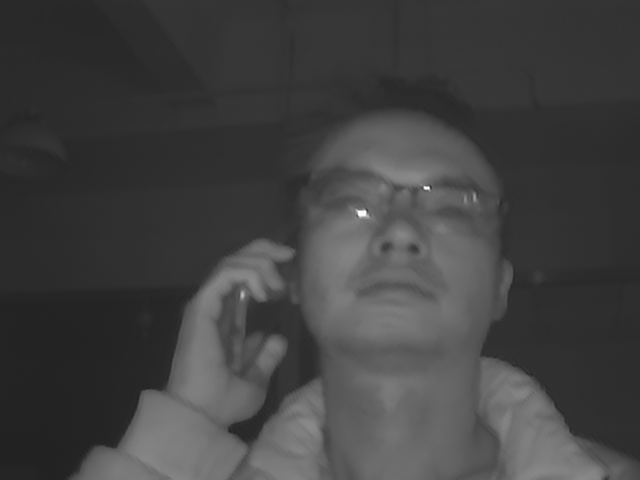hand: (162, 235, 296, 431)
